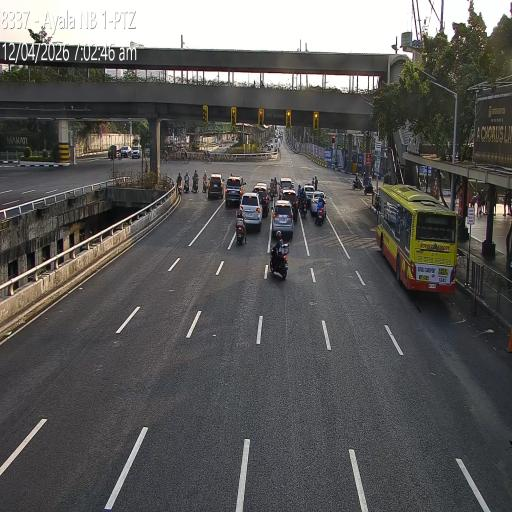Car: (238, 192, 263, 232), (271, 200, 295, 241), (224, 174, 243, 208), (252, 183, 270, 216), (280, 188, 298, 218), (207, 172, 224, 201), (310, 190, 327, 217), (278, 177, 294, 200), (302, 184, 315, 208), (108, 143, 120, 161), (120, 144, 132, 158), (130, 143, 140, 159)
Motor: (270, 230, 289, 274), (235, 209, 247, 245), (364, 174, 378, 196), (300, 189, 310, 219), (315, 200, 325, 224), (352, 171, 362, 193), (191, 168, 199, 194), (296, 182, 303, 211), (268, 177, 276, 199), (184, 171, 190, 195), (272, 174, 278, 198), (202, 170, 208, 193), (176, 177, 183, 195)
Not Accident: (273, 175, 298, 244), (234, 190, 264, 242), (208, 171, 244, 207), (304, 180, 329, 230), (242, 183, 268, 231), (176, 167, 209, 198), (298, 184, 307, 221), (269, 175, 278, 200)
